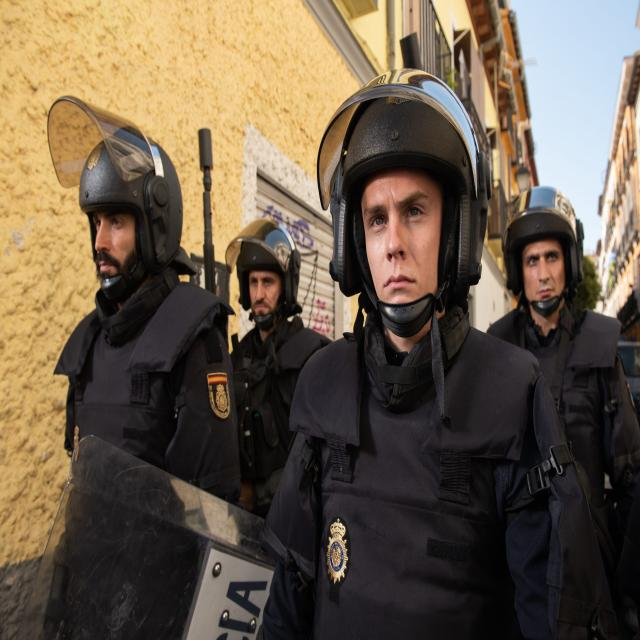police: (281, 62, 541, 640), (41, 96, 228, 610), (486, 169, 630, 640), (210, 206, 322, 640)
